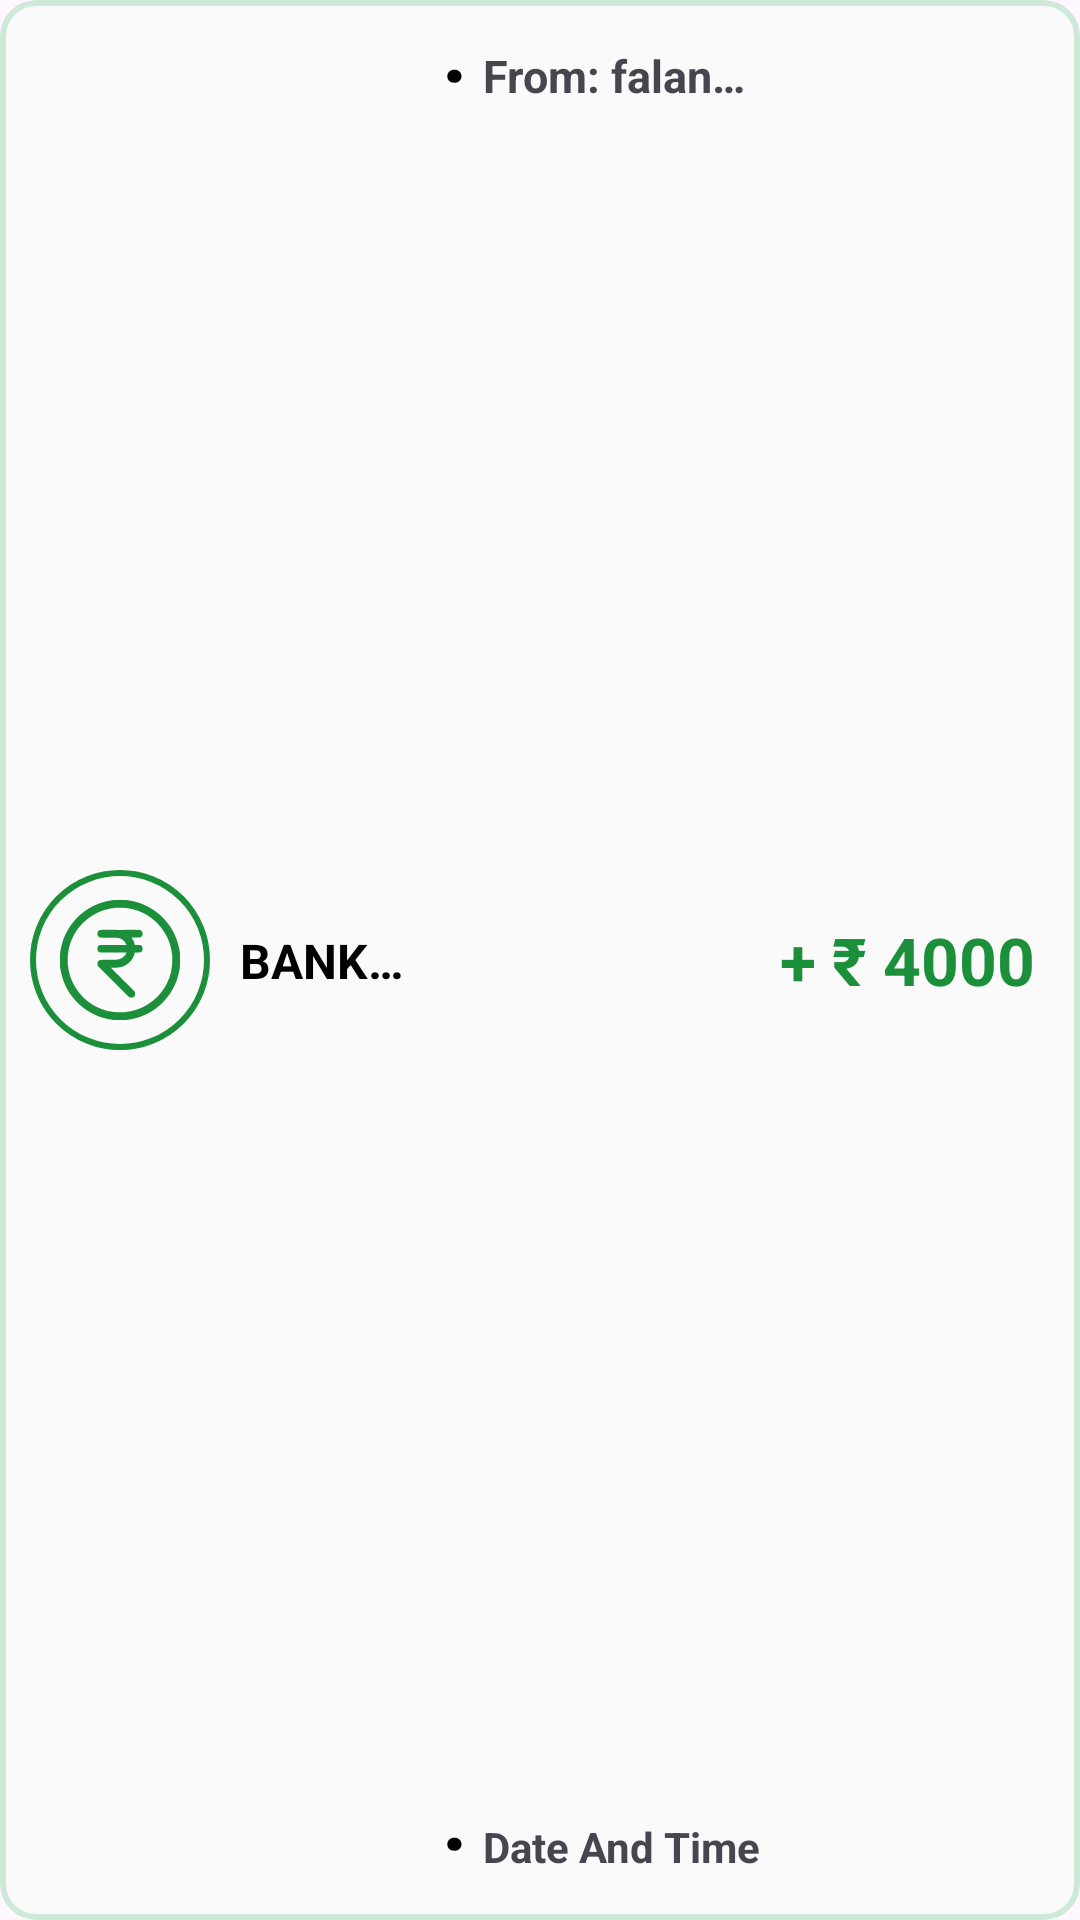

Where icons sit on this 1080px x 1920px app screen, as (x1, y1, x2, y2):
rupee list: (30, 870, 210, 1050)
